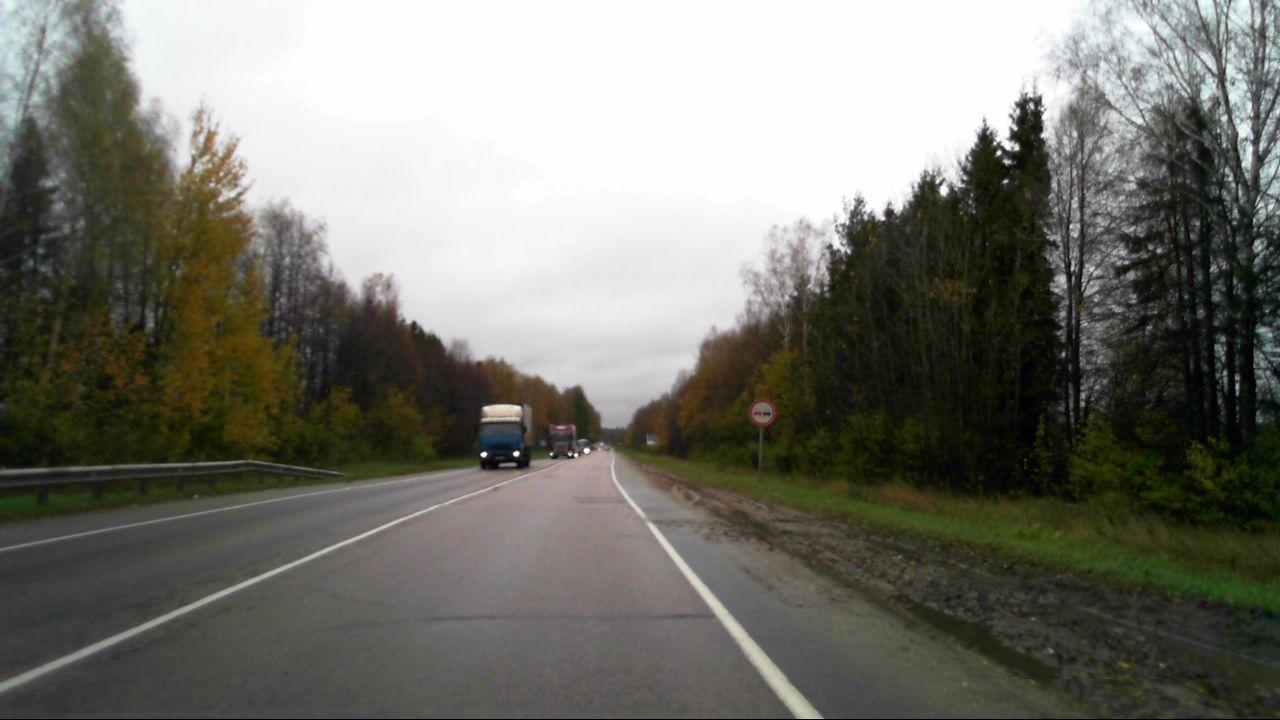3_20: (747, 399, 774, 427)
